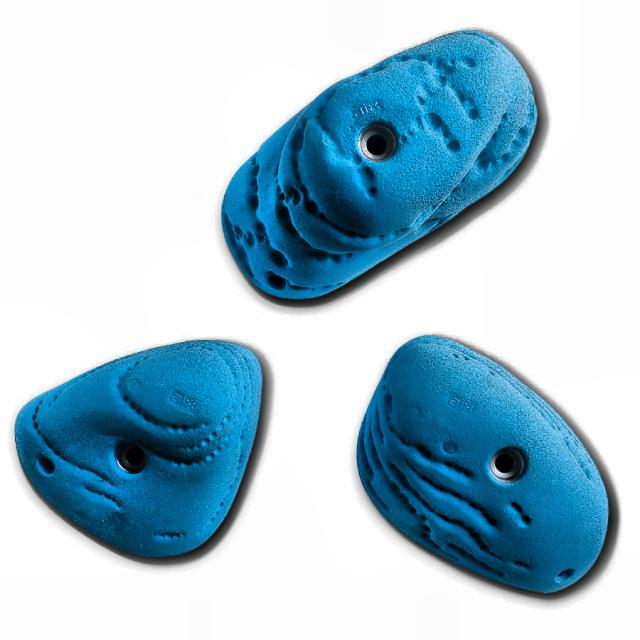Hold: (222, 28, 536, 304), (351, 339, 610, 601), (15, 342, 272, 560)
